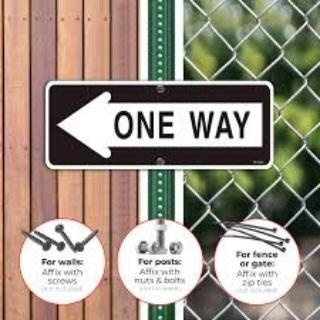sign_oneway_left: (50, 82, 265, 166)
